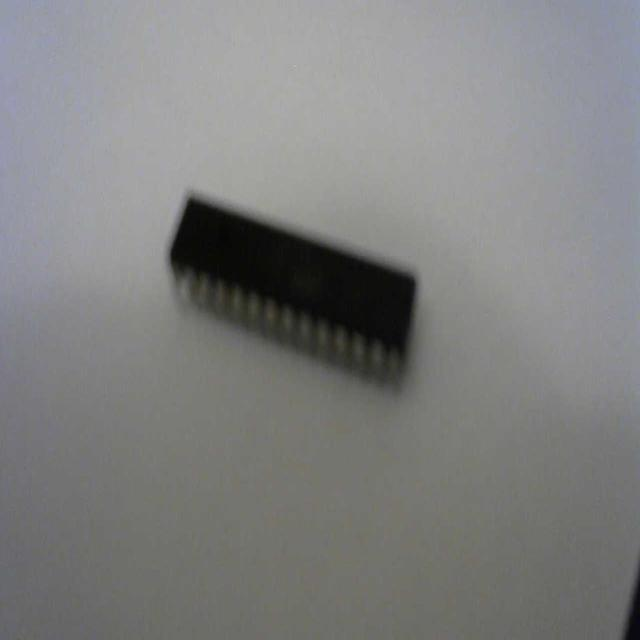atmega: (166, 185, 420, 394)
